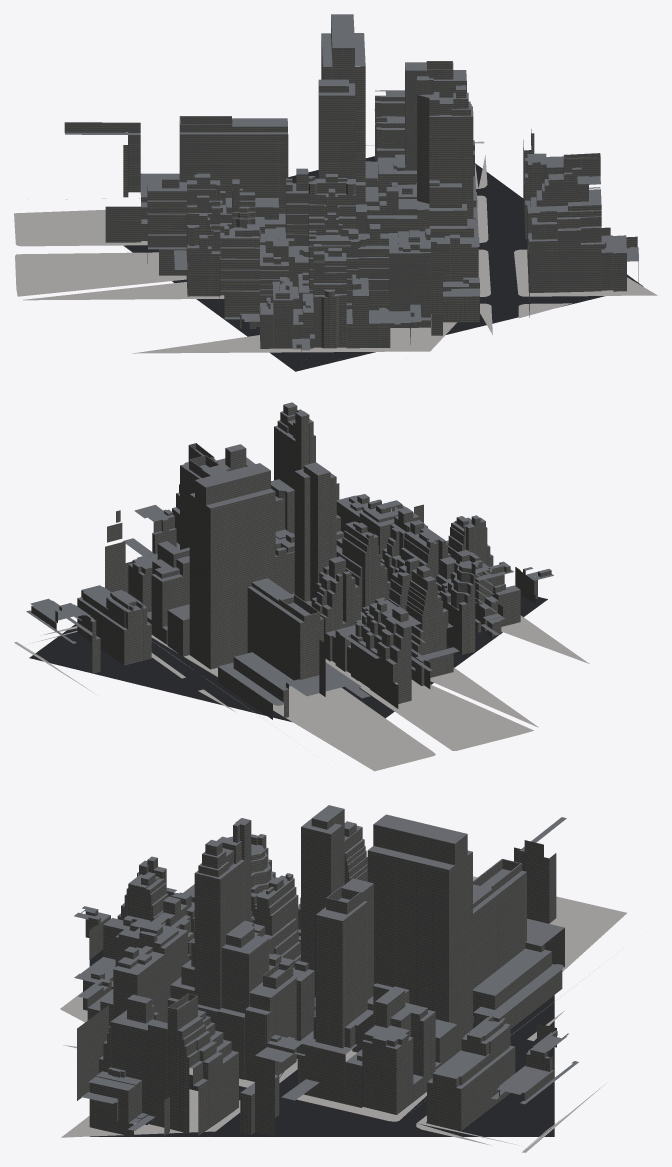
The picture shows the model from 3 angles, top to bottom: view 1: azimuth 30°, elevation 25°; view 2: azimuth 150°, elevation 25°; view 3: azimuth 270°, elevation 25°; orthographic projection. The views are drawn at different scales.
Parts seen in each view (by area): view 1: t5_5, detail; view 2: t5_5, detail; view 3: t5_5, detail.
Part boxes in pixels (x1=…): t5_5: x1=64, y1=14, x2=643, y2=371; detail: x1=14, y1=141, x2=657, y2=359; t5_5: x1=26, y1=402, x2=553, y2=722; detail: x1=14, y1=615, x2=589, y2=771; t5_5: x1=74, y1=805, x2=578, y2=1136; detail: x1=60, y1=876, x2=626, y2=1152.
Size of the model in its own units: 409 by 142 by 346.
4 materials, 2 textured.
